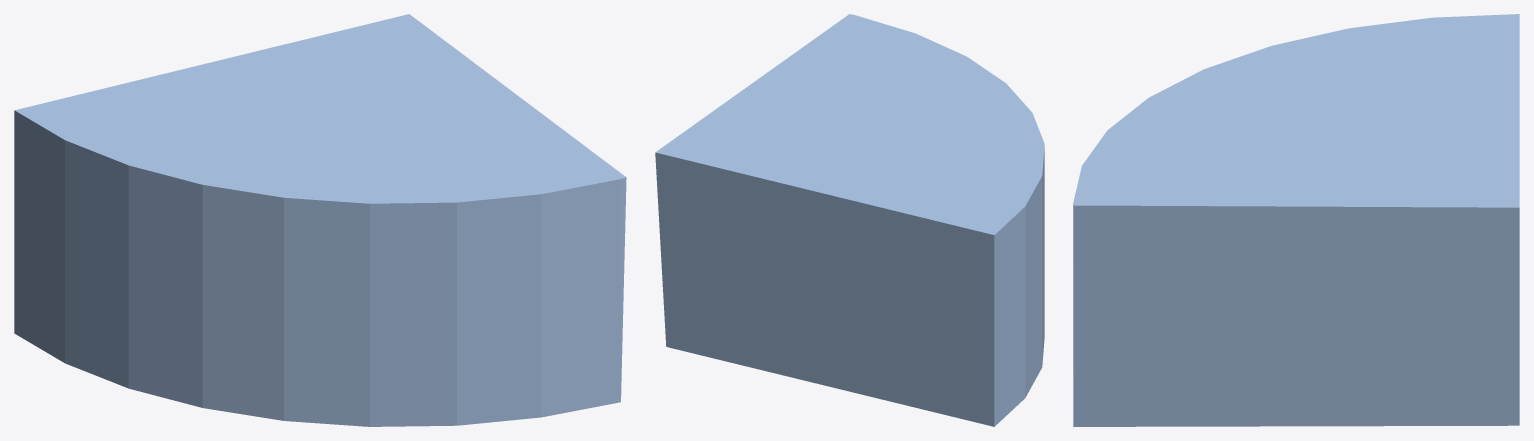
The model's file is quarter_ice_disk.fbx.
3 renders of one model, left to right at view 1: azimuth 30°, elevation 25°; view 2: azimuth 150°, elevation 25°; view 3: azimuth 270°, elevation 25°, orthographic. The views are drawn at different scales.
Parts seen in each view (by area): view 1: Cylinder; view 2: Cylinder; view 3: Cylinder.
Boxes of the visible parts, x1,y1,x2,y2 form: Cylinder: (14,14,626,426); Cylinder: (655,14,1044,426); Cylinder: (1073,14,1519,426).
Bounding box in the file's own units: 223 × 120 × 217.
